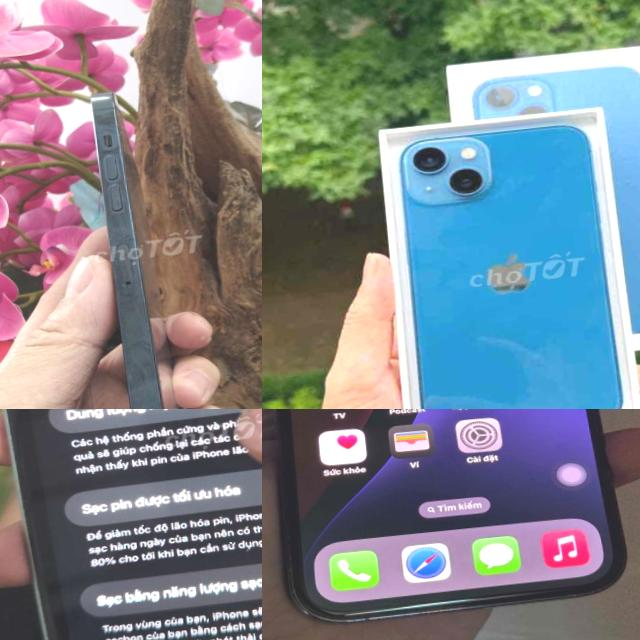gen_11: (0, 409, 262, 640)
gen_12_13: (262, 409, 633, 637), (395, 115, 640, 409), (74, 78, 197, 409)
